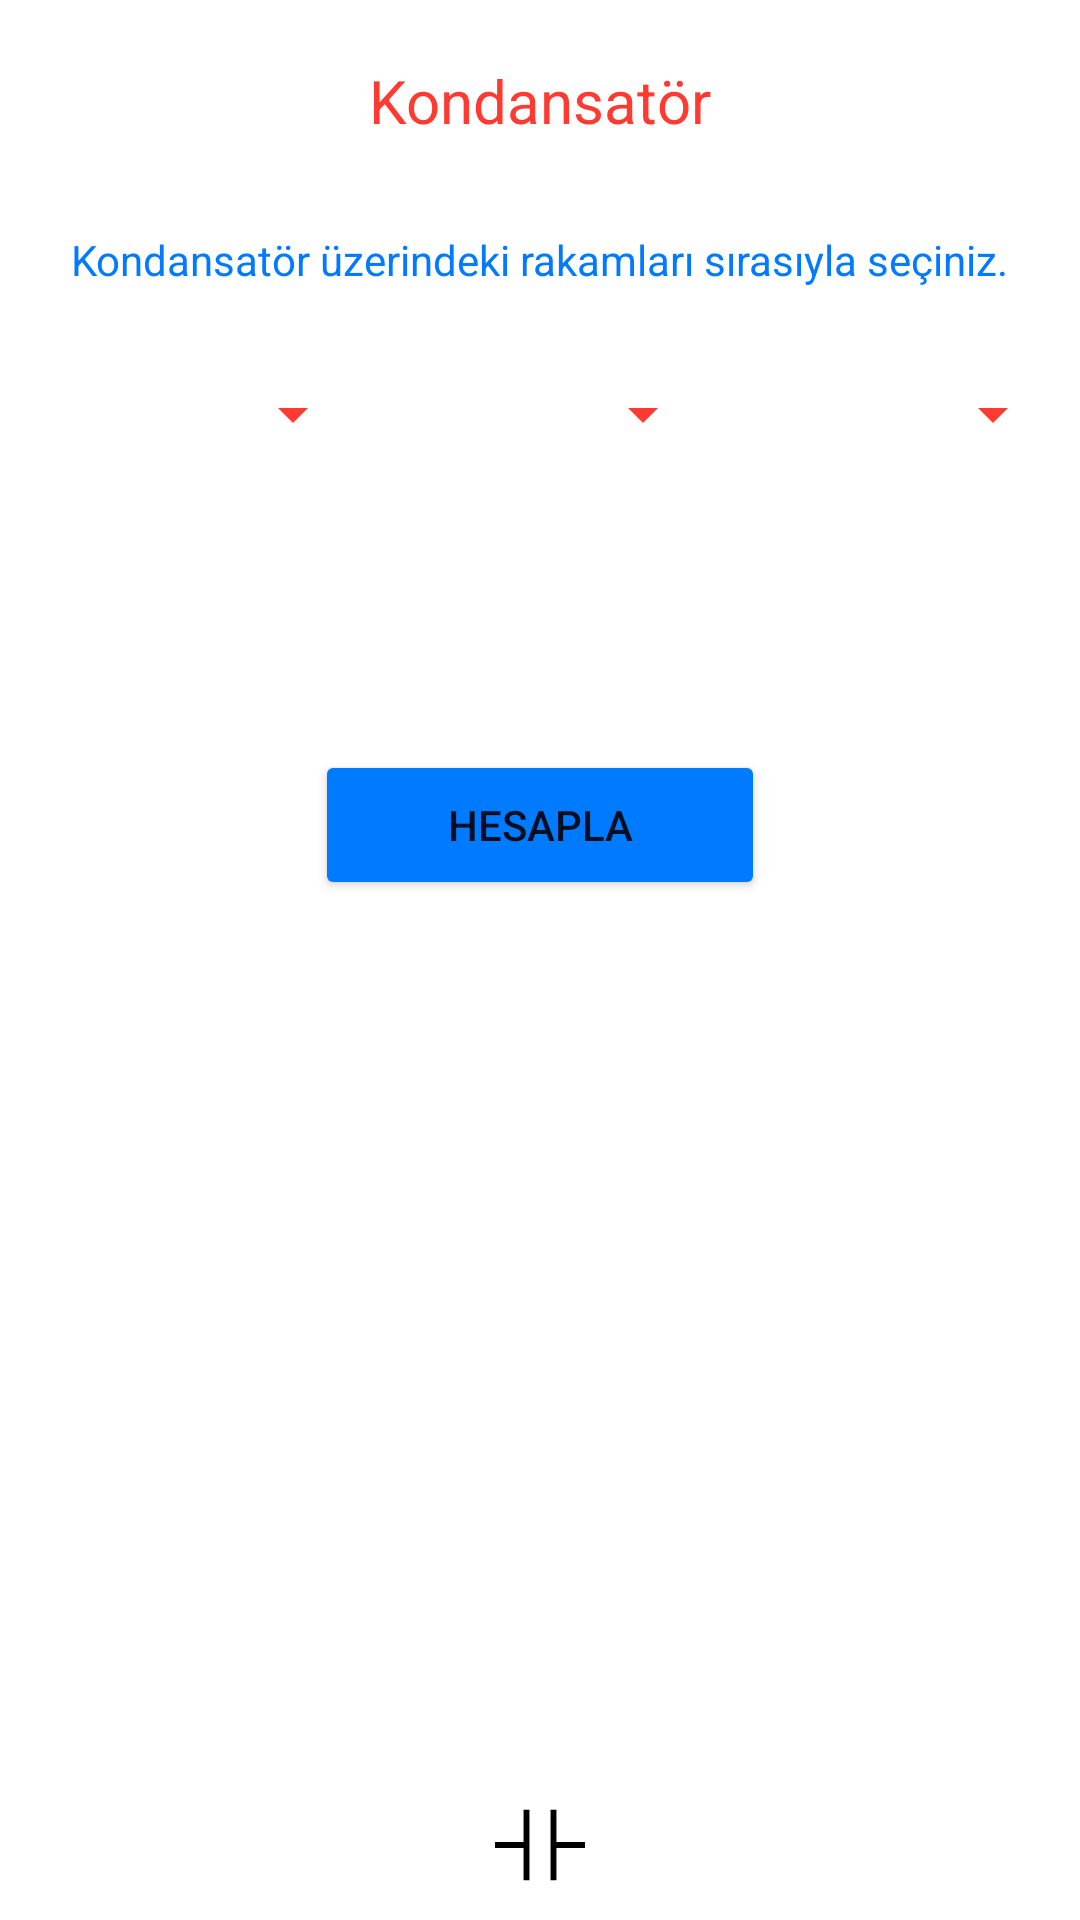

Where icons sit on this 1080px×1920px app screen, as (x1, y1, x2, y2):
kondansatoricon: (495, 1809, 585, 1881)
